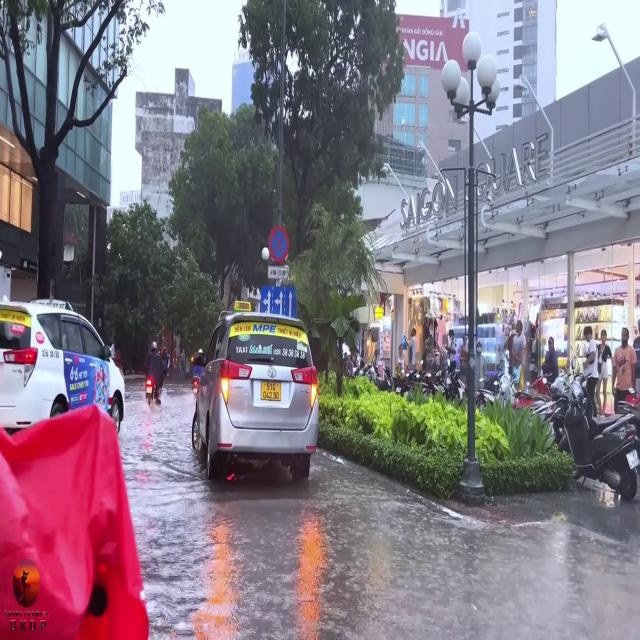bien_vang: (262, 382, 282, 404)
